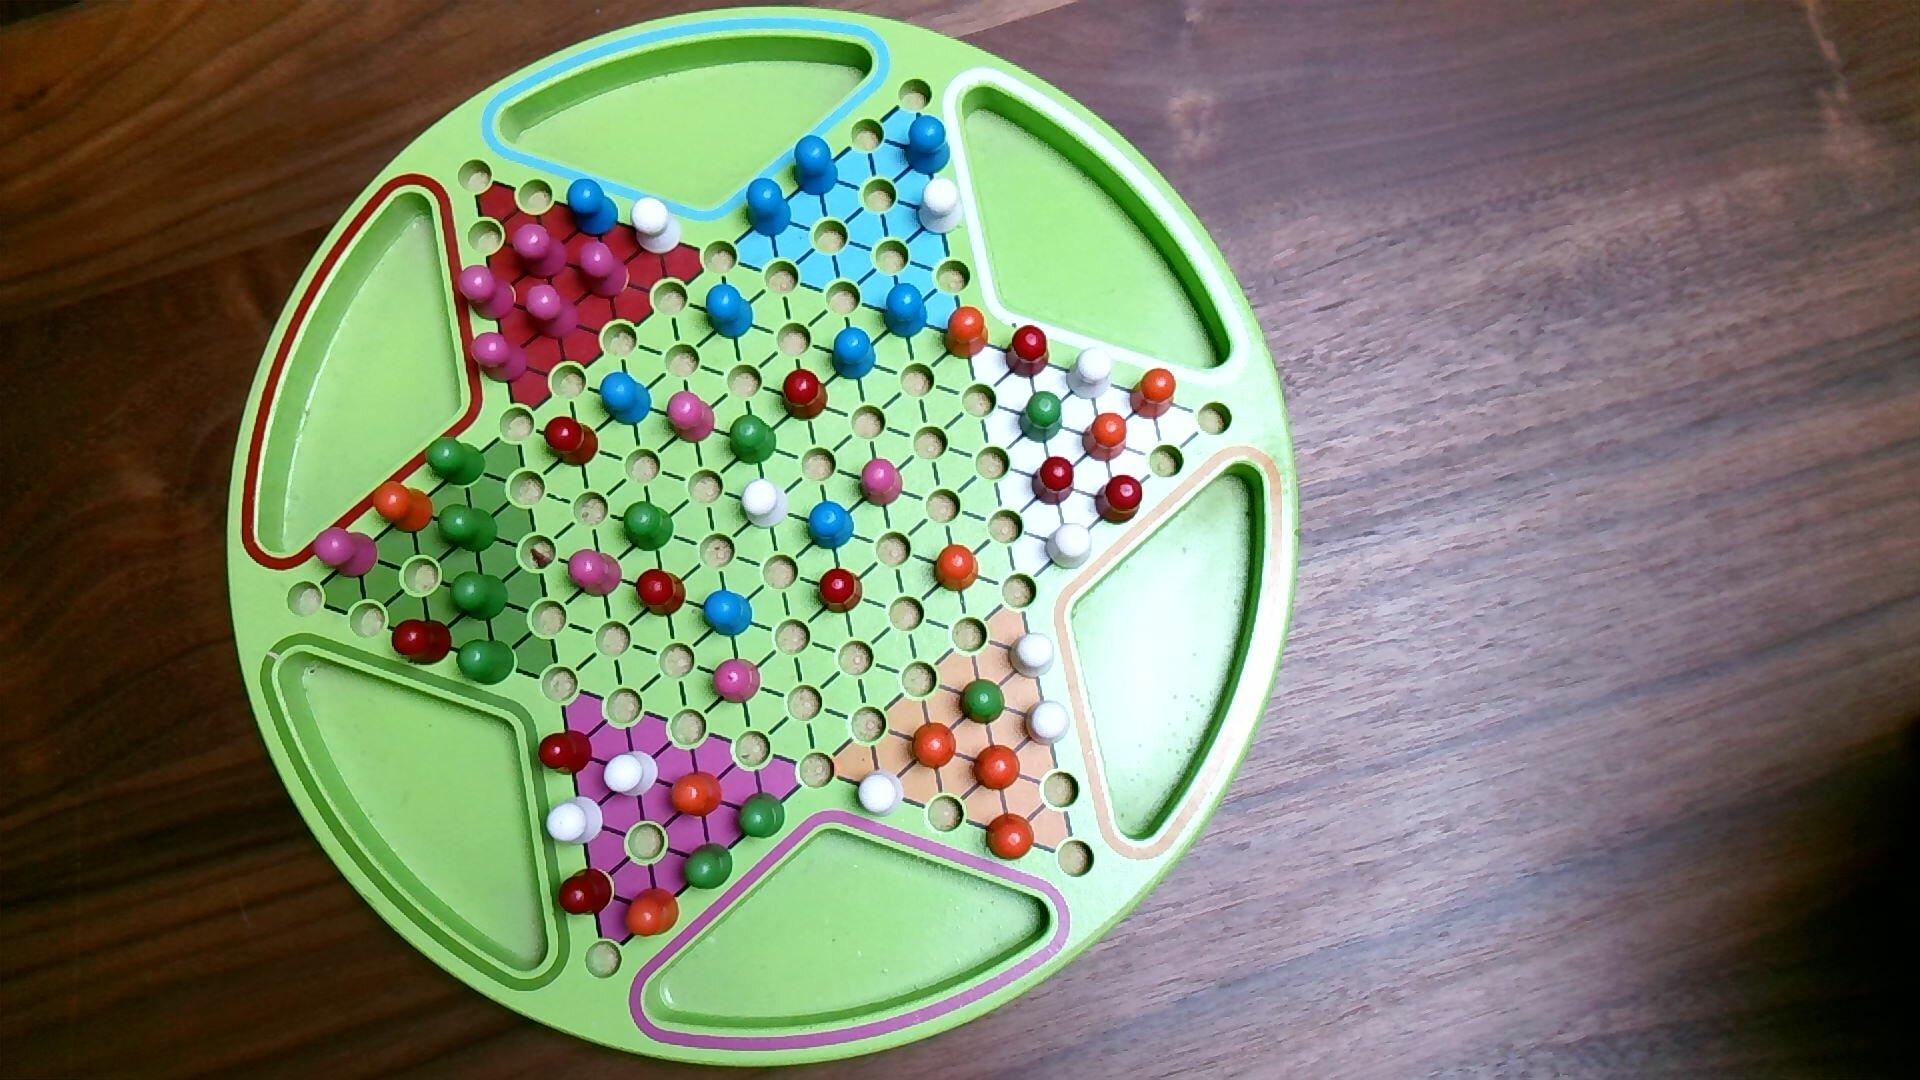B: (566, 177, 621, 239), (600, 371, 655, 429), (745, 175, 793, 240), (906, 113, 953, 178), (704, 282, 756, 342), (795, 133, 840, 200), (702, 588, 757, 641), (829, 324, 878, 382), (804, 498, 857, 551), (884, 281, 928, 342)
G: (426, 433, 489, 489), (436, 502, 500, 554), (618, 498, 676, 553), (448, 574, 512, 622), (458, 640, 520, 688), (728, 413, 779, 465), (684, 843, 738, 893), (737, 791, 789, 843), (1019, 389, 1067, 444), (959, 675, 1007, 728)
O: (375, 483, 435, 535), (625, 884, 680, 939), (669, 769, 727, 822), (1129, 364, 1178, 423), (985, 810, 1038, 862), (1083, 409, 1131, 464), (943, 305, 992, 360), (934, 541, 982, 593), (911, 721, 960, 771), (975, 742, 1023, 793)
R: (392, 617, 456, 670), (545, 413, 601, 469), (558, 864, 615, 919), (535, 728, 596, 779), (636, 567, 688, 620), (1095, 472, 1145, 527), (781, 367, 829, 423), (1005, 323, 1054, 378), (1030, 454, 1077, 508), (818, 564, 866, 615)
R2: (313, 524, 380, 582), (459, 262, 518, 323), (513, 222, 572, 282), (524, 280, 582, 342), (469, 330, 531, 385), (578, 240, 632, 301), (568, 549, 625, 600), (666, 388, 717, 444), (713, 655, 764, 707), (858, 455, 906, 509)
W: (546, 794, 607, 849), (632, 194, 684, 257), (604, 749, 661, 803), (919, 175, 967, 237), (740, 477, 793, 531), (1044, 520, 1096, 572), (1067, 345, 1116, 401), (1007, 630, 1058, 682), (856, 769, 907, 818), (1025, 698, 1073, 749)
